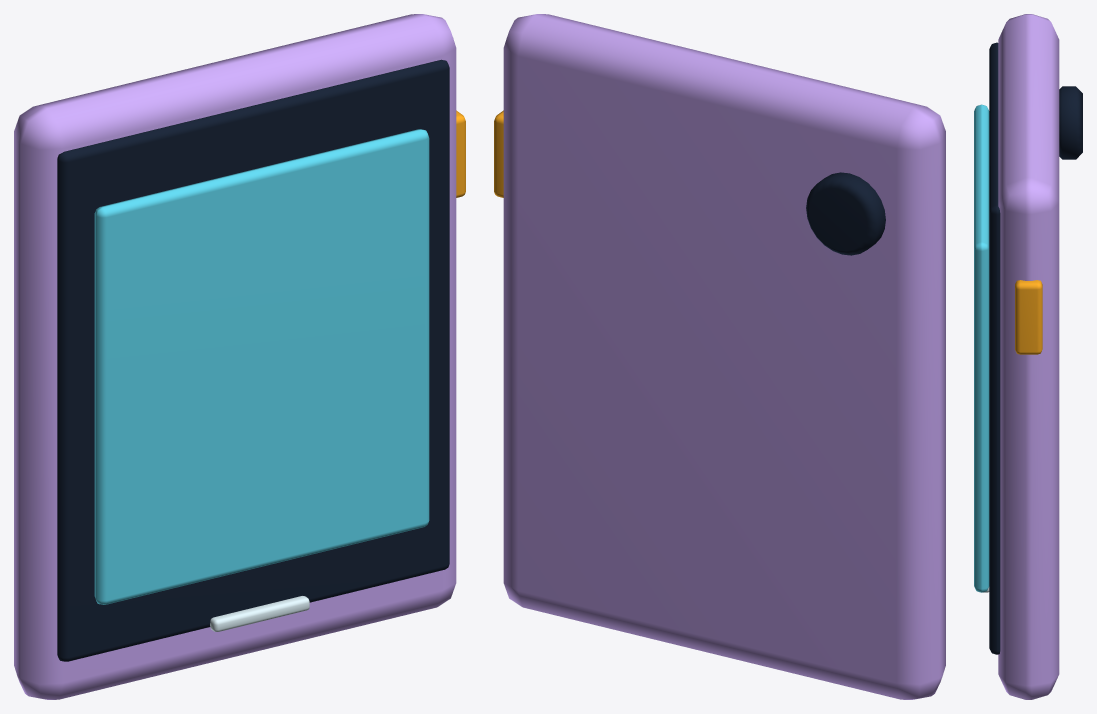
The model's file is tablet.glb.
3 renders of one model, left to right at view 1: azimuth 30°, elevation 25°; view 2: azimuth 150°, elevation 25°; view 3: azimuth 270°, elevation 25°, orthographic. The views are drawn at different scales.
Visible parts, largest first — view 1: tablet; view 2: tablet; view 3: tablet.
Boxes of the visible parts, <box> form: tablet: <box>14,14,465,699</box>; tablet: <box>494,14,945,699</box>; tablet: <box>974,14,1082,699</box>.
Size of the model in its own units: 0.7819 by 1 by 0.1894.
1 material, 1 textured.
